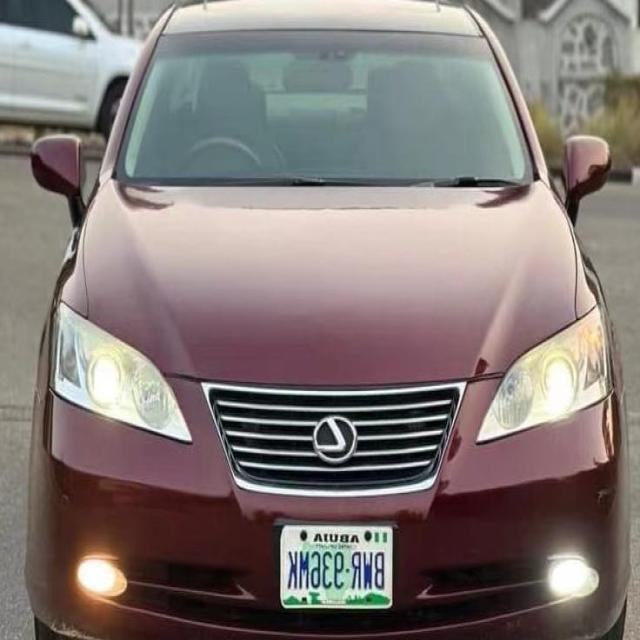Nigerian License Plate - vdataset benjamin-daria: (275, 519, 397, 618)
